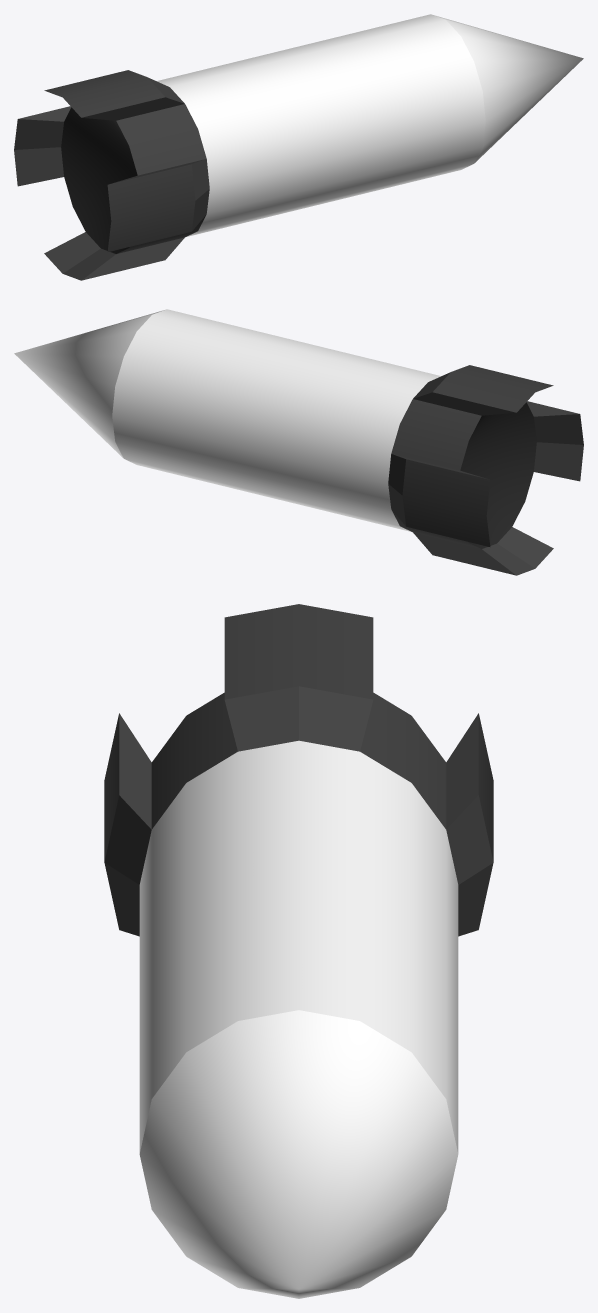
Rendered from Type2_Rocket.fbx.
3 views of the same model, one above another, from view 1: azimuth 30°, elevation 25°; view 2: azimuth 150°, elevation 25°; view 3: azimuth 270°, elevation 25° (orthographic). The views are drawn at different scales.
Visible parts, largest first — view 1: Rocket_Shell, Rocket_Head; view 2: Rocket_Shell, Rocket_Head; view 3: Rocket_Shell, Rocket_Head.
Part boxes in pixels (x1,y1,x2,y2): Rocket_Shell: (14, 14, 485, 280); Rocket_Head: (433, 15, 583, 163); Rocket_Shell: (112, 309, 583, 575); Rocket_Head: (14, 310, 164, 458); Rocket_Shell: (104, 604, 493, 1153); Rocket_Head: (139, 1010, 458, 1298).
Size of the model in its own units: 3.78 by 1.22 by 1.22.
